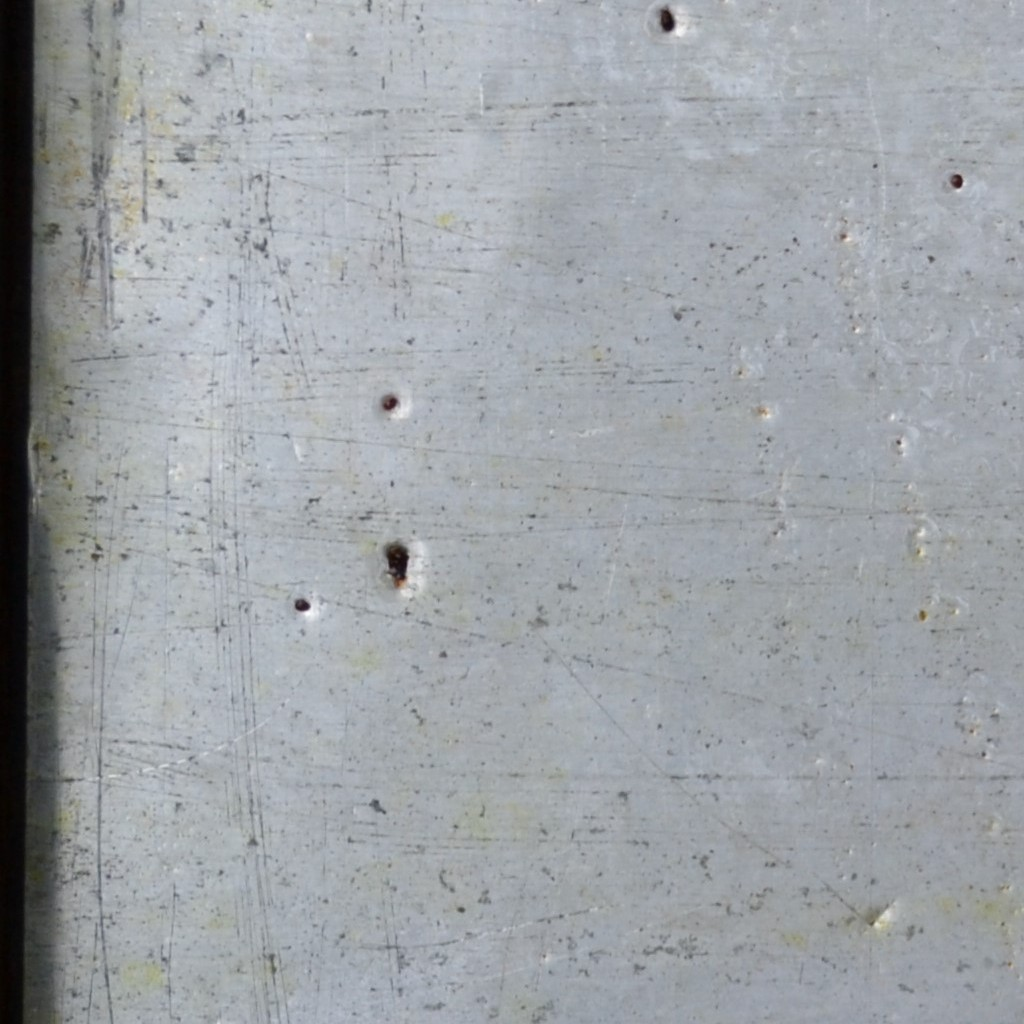varroa: (380, 390, 398, 419), (658, 7, 678, 32), (291, 590, 311, 615), (947, 170, 967, 190)
